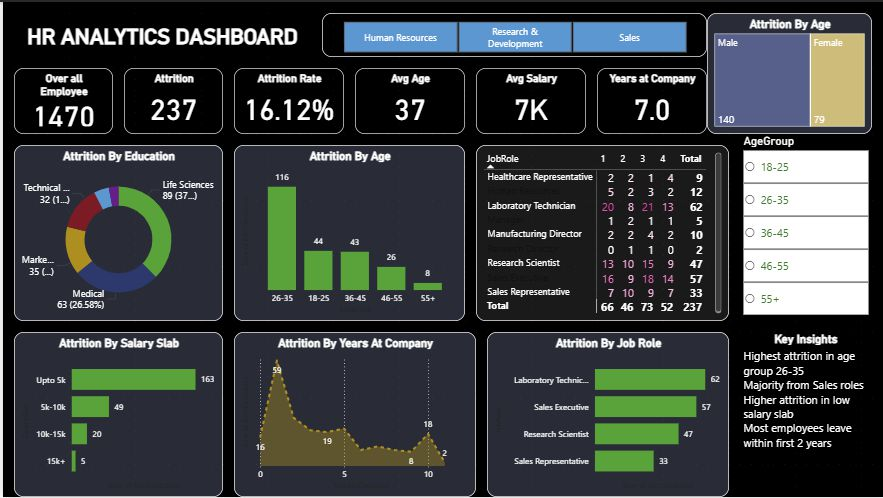

The page's visual inventory and layout, read from the dashboard file:
{"tool":"powerbi","page":{"name":"Page 1","canvas":[1280,720],"ordinal":0},"visuals":[{"type":"card","title":"Over all Employee","fields":{"Values":["CountNonNull(HR_Analytics (1).EmpID)"]},"box":[16,96,144,96],"z":0},{"type":"card","title":"Attrition","fields":{"Values":["Sum(HR_Analytics (1).AttritionCount)"]},"box":[176,96,144,96],"z":1000},{"type":"card","title":"Attrition Rate","fields":{"Values":["HR_Analytics (1).AttritionRate"]},"box":[336,96,160,96],"z":2000},{"type":"card","title":"Avg Age","fields":{"Values":["Avg(HR_Analytics (1).Age)"]},"box":[512,96,160,96],"z":3000},{"type":"card","title":"Years at Company","fields":{"Values":["Avg(HR_Analytics (1).YearsAtCompany)"]},"box":[864,96,160,96],"z":4000},{"type":"card","title":"Avg Salary","fields":{"Values":["Avg(HR_Analytics (1).MonthlyIncome)"]},"box":[688,96,160,96],"z":5000},{"type":"donutChart","title":"Attrition By Education","fields":{"Category":["HR_Analytics (1).EducationField"],"Y":["Sum(HR_Analytics (1).AttritionCount)"]},"box":[16,208,304,256],"z":6000},{"type":"columnChart","title":"Attrition By Age","fields":{"Category":["HR_Analytics (1).AgeGroup"],"Y":["Sum(HR_Analytics (1).AttritionCount)"]},"box":[336,208,336,256],"z":7000},{"type":"pivotTable","title":"Job ","fields":{"Rows":["HR_Analytics (1).JobRole"],"Columns":["HR_Analytics (1).JobSatisfaction"],"Values":["Sum(HR_Analytics (1).AttritionCount)"]},"box":[688,208,368,256],"z":8000},{"type":"barChart","title":"Attrition By Salary Slab","fields":{"Category":["HR_Analytics (1).SalarySlab"],"Y":["Sum(HR_Analytics (1).AttritionCount)"]},"box":[16,480,304,240],"z":9000},{"type":"areaChart","title":"Attrition By Years At Company","fields":{"Category":["HR_Analytics (1).YearsAtCompany"],"Y":["Sum(HR_Analytics (1).AttritionCount)"]},"box":[336,480,352,240],"z":10000},{"type":"barChart","title":"Attrition By Job Role","fields":{"Y":["Sum(HR_Analytics (1).AttritionCount)"],"Category":["HR_Analytics (1).JobRole"]},"box":[704,480,352,240],"z":11000},{"type":"treemap","title":"Attrition By Age","fields":{"Group":["HR_Analytics (1).Gender"],"Values":["Sum(HR_Analytics (1).AttritionCount)"]},"box":[1024,16,240,176],"z":12000},{"type":"slicer","fields":{"Values":["HR_Analytics (1).Department"]},"box":[464,16,560,64],"z":13000},{"type":"textbox","title":"HR ANALYTICS DASHBOARD","box":[16,32,432,32],"z":14000},{"type":"listSlicer","fields":{"Values":["HR_Analytics (1).AgeGroup"]},"box":[1072,192,192,272],"z":15000},{"type":"textbox","title":"Key Insights","box":[1072,480,192,224],"z":16000}]}

Visuals, with their boxes in screenshot pixels (x1, y1, x2, y2), scaled from the page's 1280x720 canvas onto the 883x498 screenshot:
"Over all Employee" card: [11, 66, 110, 133]
"Attrition" card: [121, 66, 221, 133]
"Attrition Rate" card: [232, 66, 342, 133]
"Avg Age" card: [353, 66, 464, 133]
"Years at Company" card: [596, 66, 706, 133]
"Avg Salary" card: [475, 66, 585, 133]
"Attrition By Education" donutChart: [11, 144, 221, 321]
"Attrition By Age" columnChart: [232, 144, 464, 321]
"Job " pivotTable: [475, 144, 728, 321]
"Attrition By Salary Slab" barChart: [11, 332, 221, 497]
"Attrition By Years At Company" areaChart: [232, 332, 475, 497]
"Attrition By Job Role" barChart: [486, 332, 728, 497]
"Attrition By Age" treemap: [706, 11, 872, 133]
slicer - HR_Analytics (1).Department: [320, 11, 706, 55]
"HR ANALYTICS DASHBOARD" textbox: [11, 22, 309, 44]
listSlicer - HR_Analytics (1).AgeGroup: [740, 133, 872, 321]
"Key Insights" textbox: [740, 332, 872, 487]
